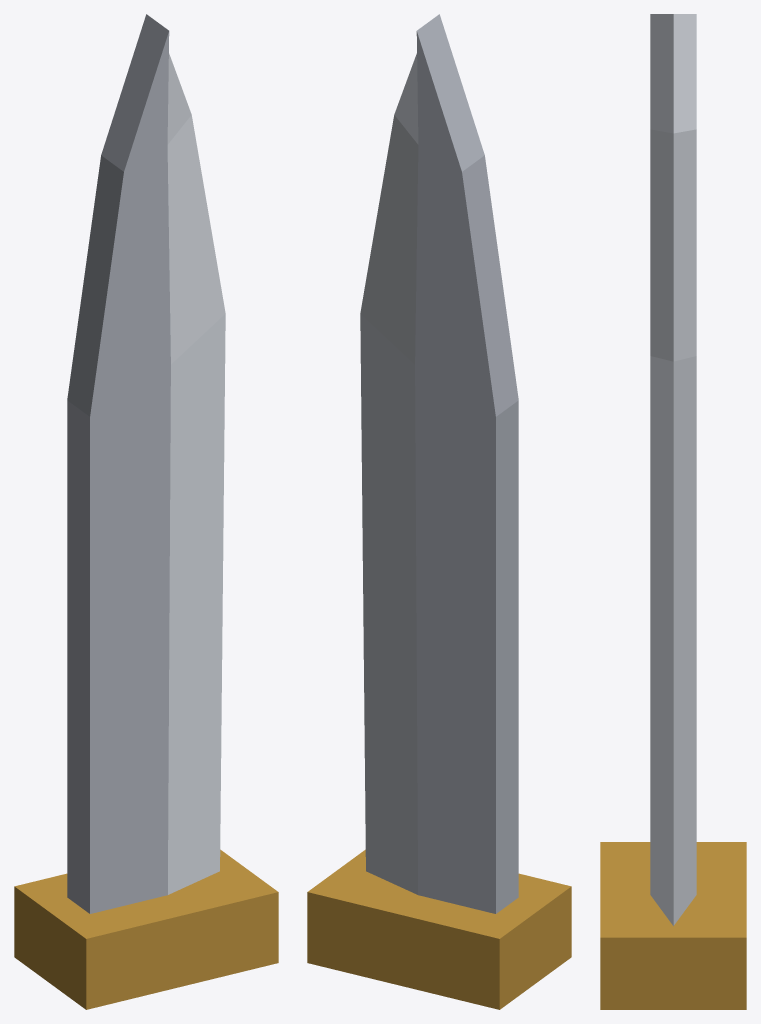
Rendered from butterfly_blade.obj.
3 views of the same model, side by side, from view 1: azimuth 30°, elevation 25°; view 2: azimuth 150°, elevation 25°; view 3: azimuth 270°, elevation 25° (orthographic).
Visible parts, largest first — view 1: butterfly_blade; view 2: butterfly_blade; view 3: butterfly_blade.
Boxes of the visible parts, x1=… form: butterfly_blade: x1=14, y1=14, x2=278, y2=1009; butterfly_blade: x1=307, y1=14, x2=571, y2=1009; butterfly_blade: x1=600, y1=14, x2=746, y2=1009.
Bounding box in the file's own units: 0.0629 × 0.2923 × 0.0407.
